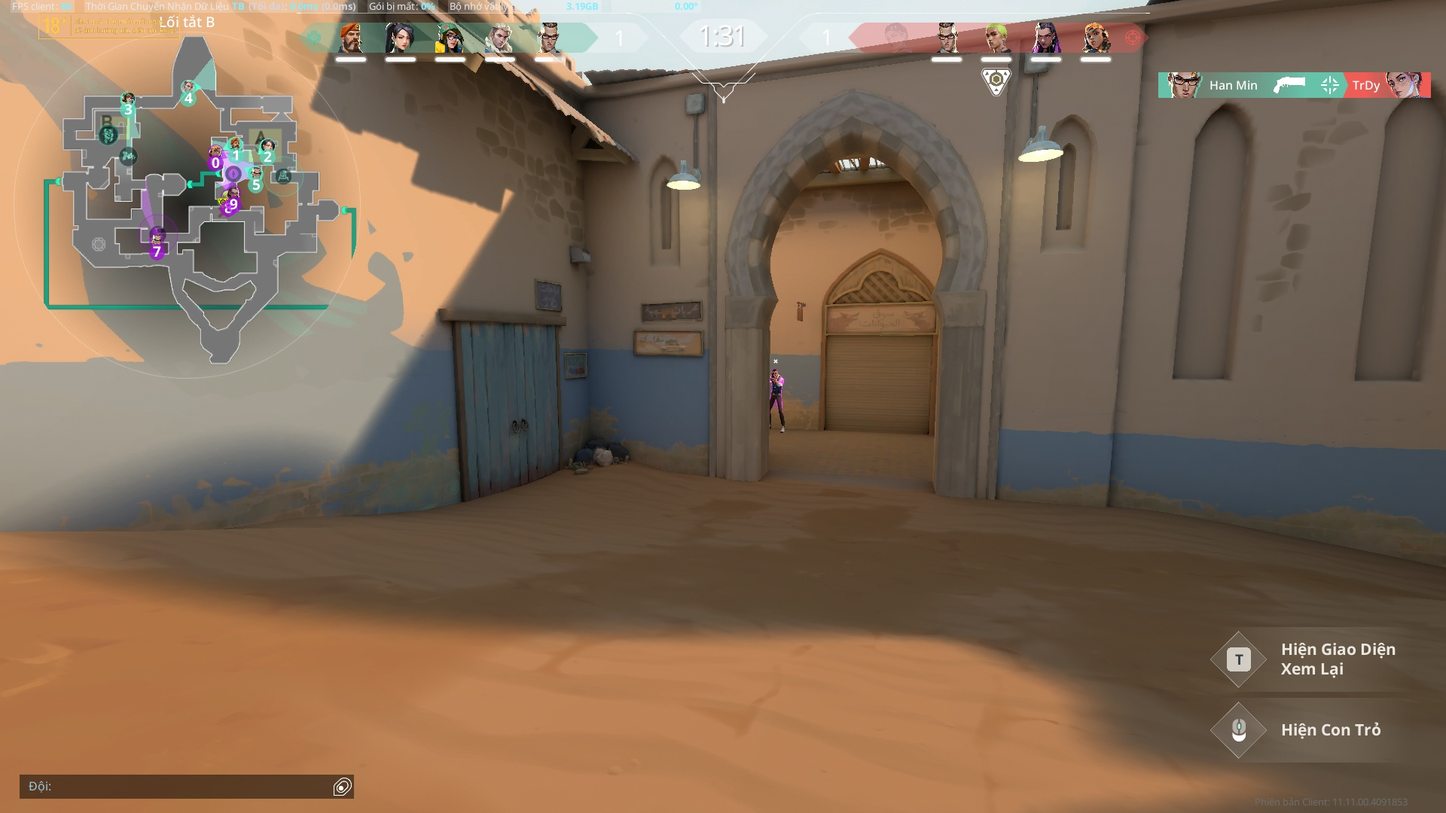body: (769, 374, 783, 393)
head: (771, 367, 778, 376)
